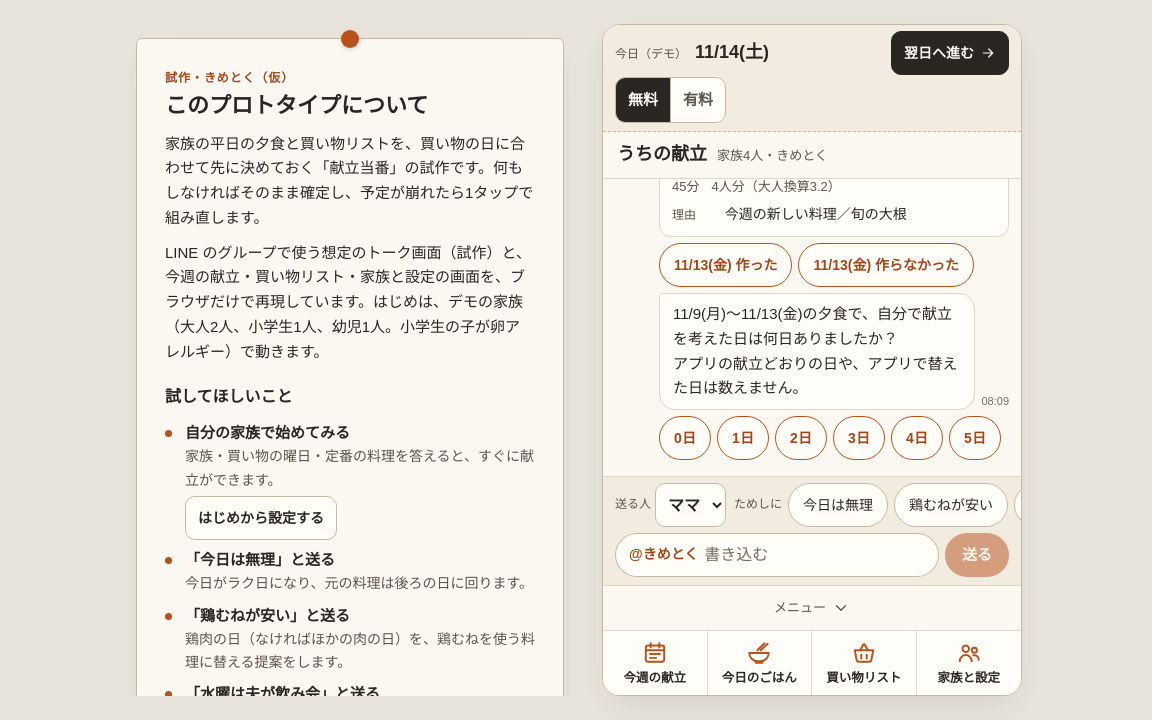
Test case: PRD-4：メニューの「今週の献立」は、これからの献立がある週を開く › 今週の献立日が残っていれば、今週を開く（来週の献立がまだない土曜も今週）
(page scrolled)
Click the button "今週の献立". click: [655, 663]
box: 603,631 -> 708,695
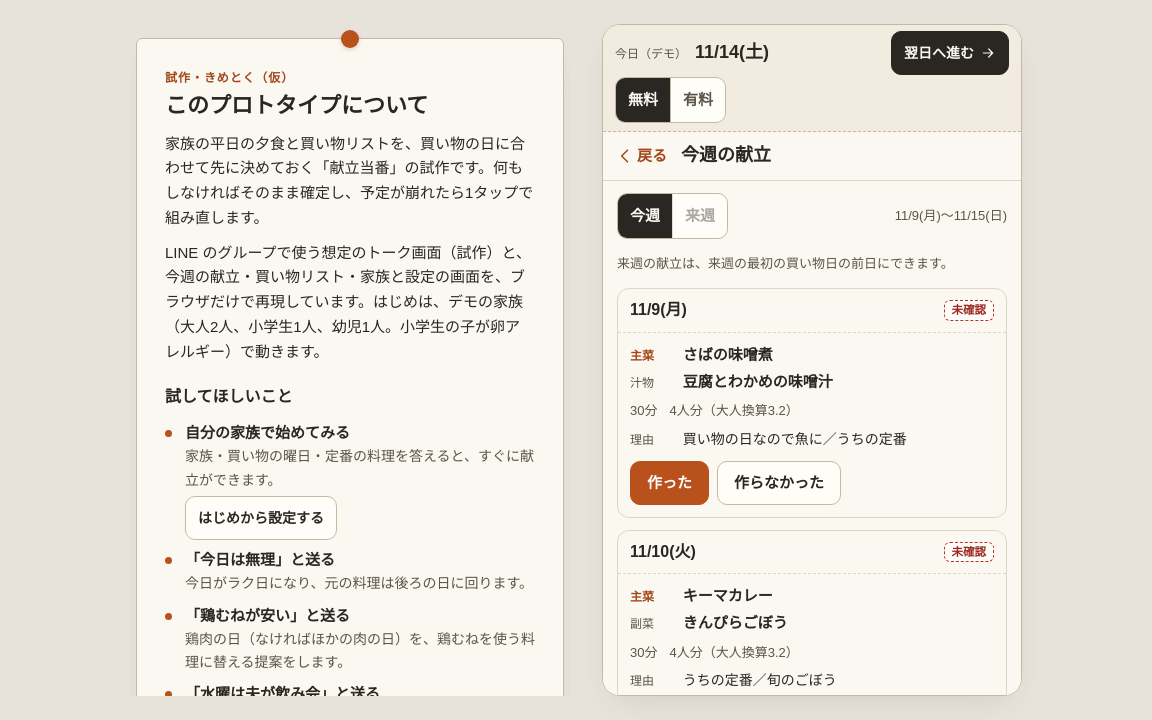
Expected: the text "今週の献立" is shown, 624,670 -> 686,686
Result: the text with class "range" reads "11/9(月)〜11/15(日)" at 895,205 -> 1007,227
